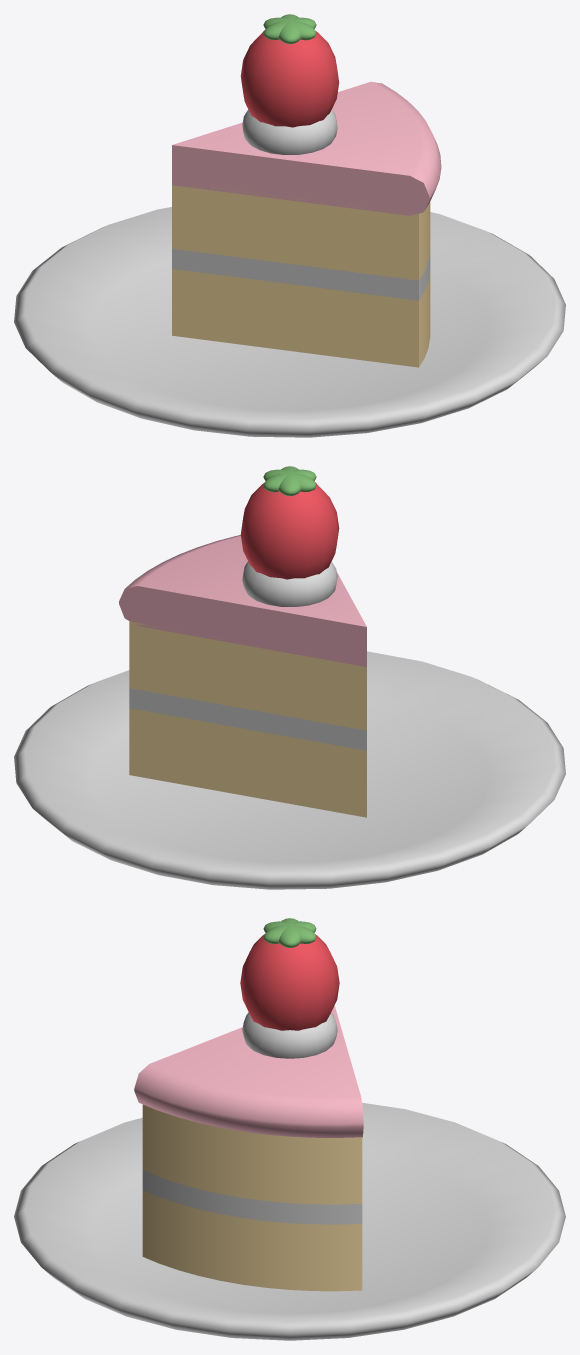
Rendered from food_cake.glb.
3 views of the same model, one above another, from view 1: azimuth 30°, elevation 25°; view 2: azimuth 150°, elevation 25°; view 3: azimuth 270°, elevation 25° (orthographic).
Parts seen in each view (by area): view 1: StrawberryCake, Slice; view 2: StrawberryCake, Slice; view 3: StrawberryCake, Slice.
Part boxes in pixels (x1,y1,x2,y2): StrawberryCake: (14,14,565,437); Slice: (172,81,441,367); StrawberryCake: (14,466,565,889); Slice: (119,535,366,817); StrawberryCake: (14,918,565,1340); Slice: (134,1005,363,1291).
Size of the model in its own units: 0.3 by 0.195 by 0.3.
